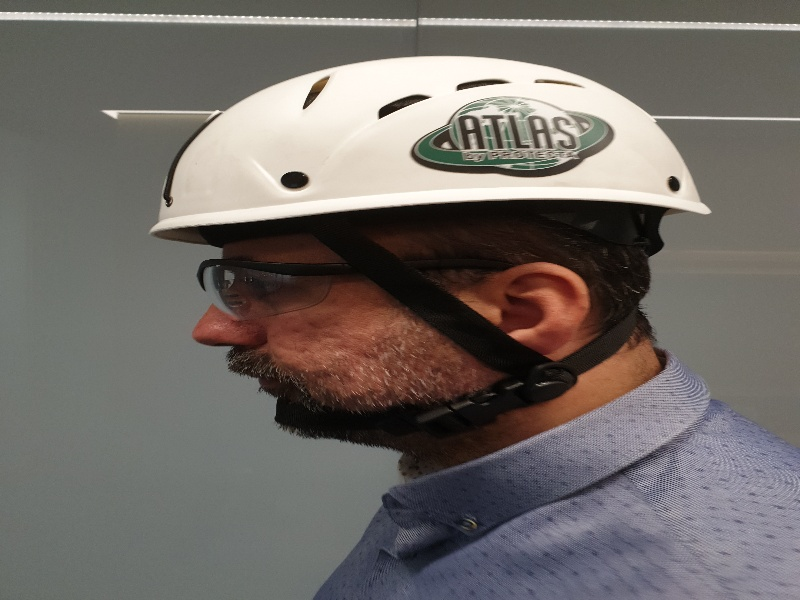Baret: (153, 54, 713, 222)
Gozluk: (195, 256, 517, 317)
